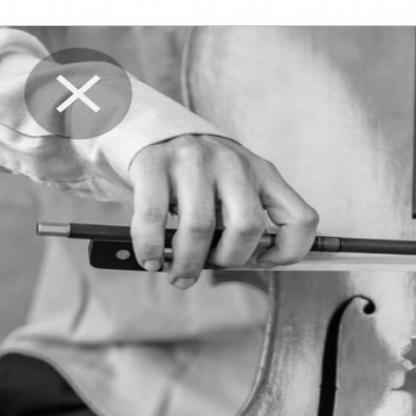good: (119, 130, 338, 302)
